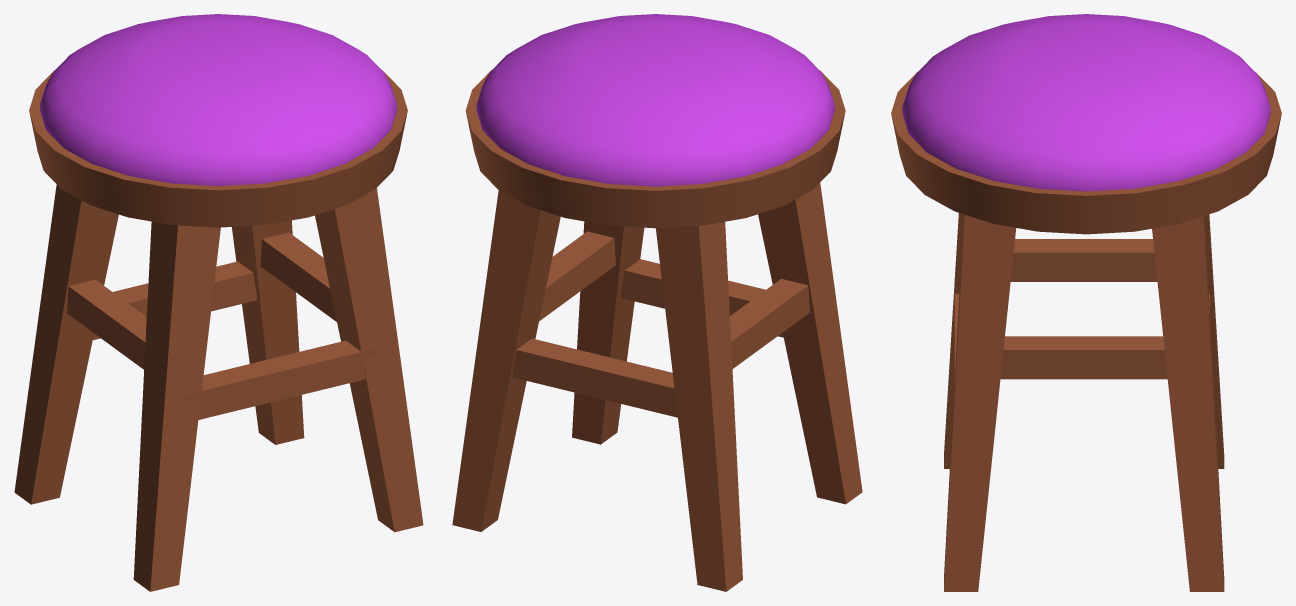
Rendered from stool.fbx.
The picture shows the model from 3 angles, left to right: view 1: azimuth 30°, elevation 25°; view 2: azimuth 150°, elevation 25°; view 3: azimuth 270°, elevation 25°; orthographic projection. The views are drawn at different scales.
Visible parts, largest first — view 1: Stool; view 2: Stool; view 3: Stool.
Part boxes in pixels (bbox=[...]): Stool: bbox=[14, 14, 423, 591]; Stool: bbox=[452, 14, 862, 591]; Stool: bbox=[891, 14, 1281, 591].
Size of the model in its own units: 38.39 by 38.39 by 50.67.
